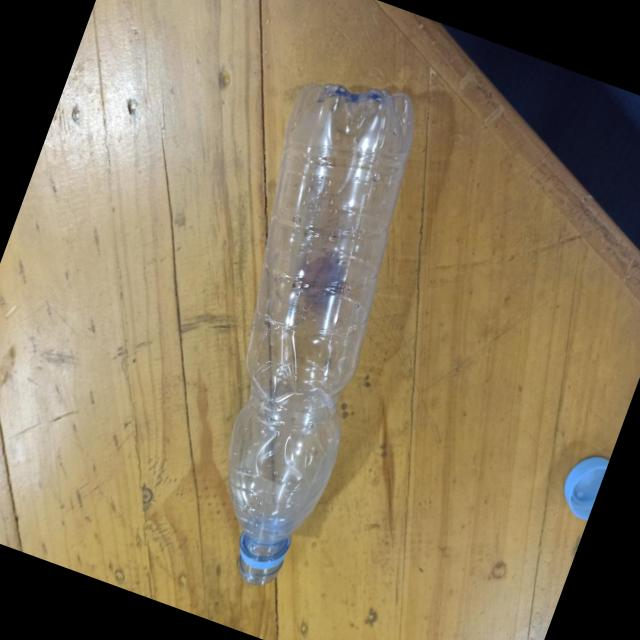BotolPlastik: (133, 58, 463, 600)
